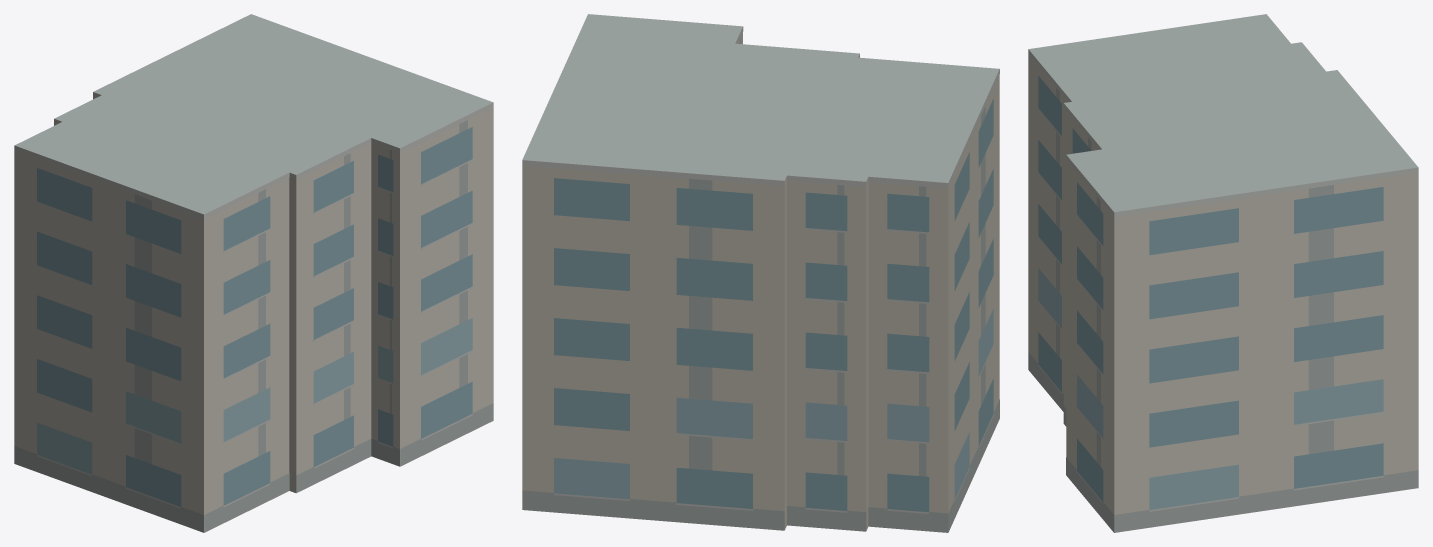
Rendered from survey-upis-33024053.glb.
The picture shows the model from 3 angles, left to right: view 1: azimuth 30°, elevation 25°; view 2: azimuth 150°, elevation 25°; view 3: azimuth 270°, elevation 25°; orthographic projection. The views are drawn at different scales.
Visible parts, largest first — view 1: survey-upis-33024053.tmp; view 2: survey-upis-33024053.tmp; view 3: survey-upis-33024053.tmp.
Boxes of the visible parts, bbox=[...] form: survey-upis-33024053.tmp: bbox=[14, 14, 493, 532]; survey-upis-33024053.tmp: bbox=[522, 14, 999, 532]; survey-upis-33024053.tmp: bbox=[1028, 14, 1418, 532].
Size of the model in its own units: 20.97 by 15.8 by 17.44.
